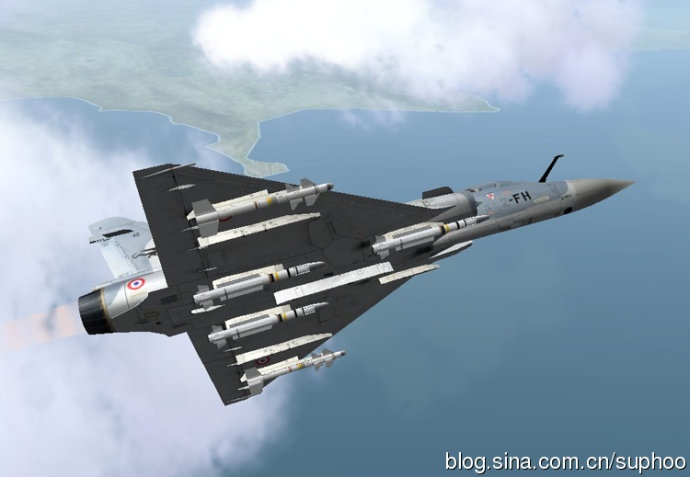airplane: (74, 142, 641, 408)
